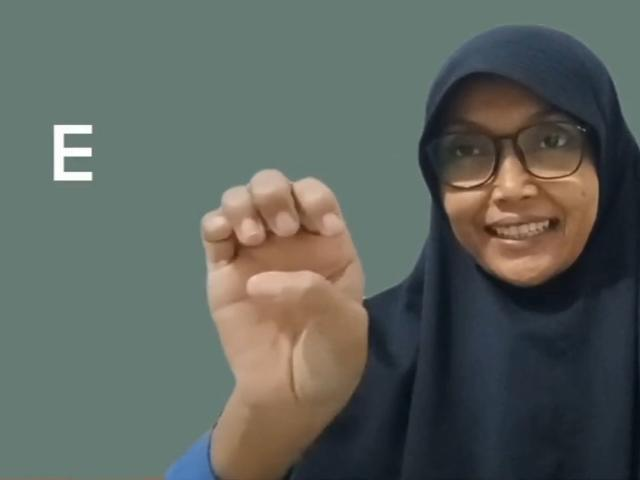E: (192, 164, 370, 408)
